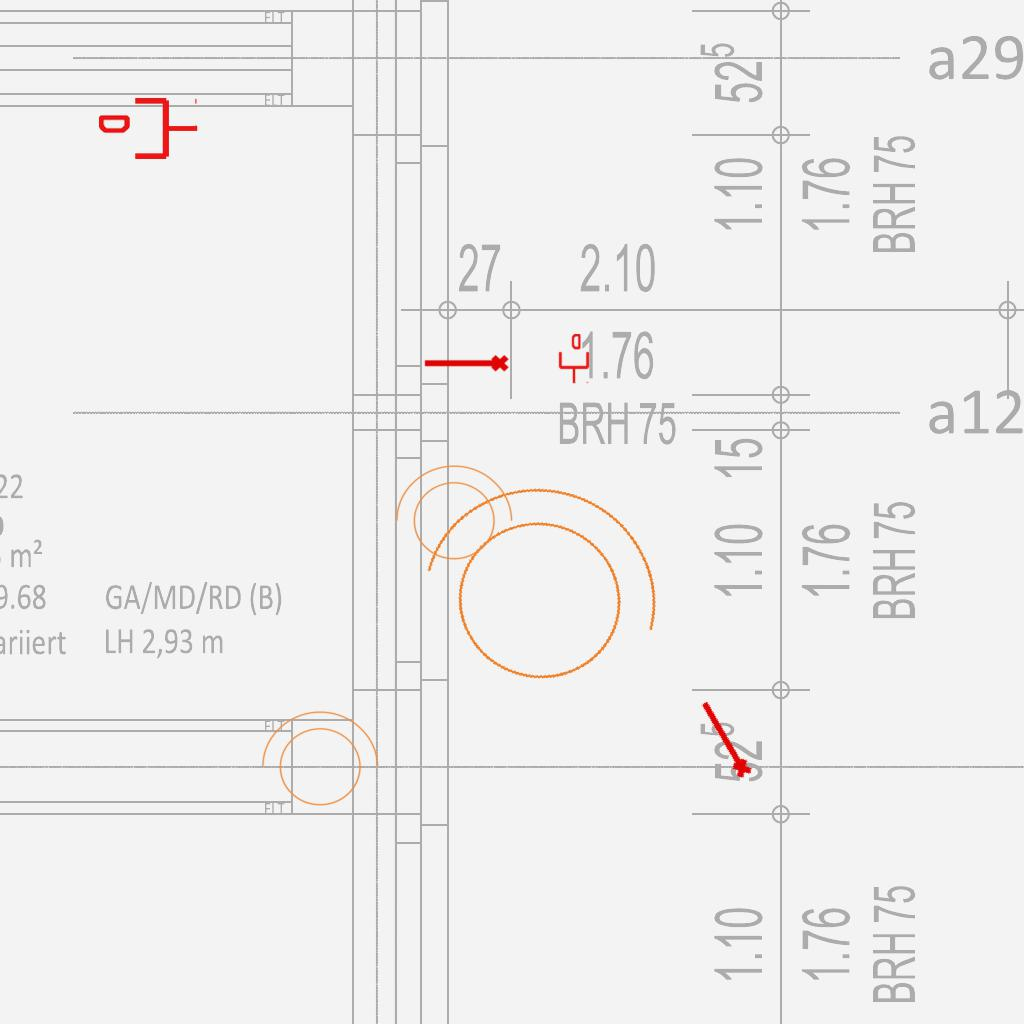ASR_Ansaugoeffnung: (692, 695, 756, 784), (422, 353, 510, 376)
Datenanschluss_einfach: (99, 94, 199, 163), (557, 334, 591, 384)
Scheinwerfer_fuer_Alarmbeleuchtung: (379, 446, 693, 733), (251, 706, 383, 818), (385, 460, 517, 572)
